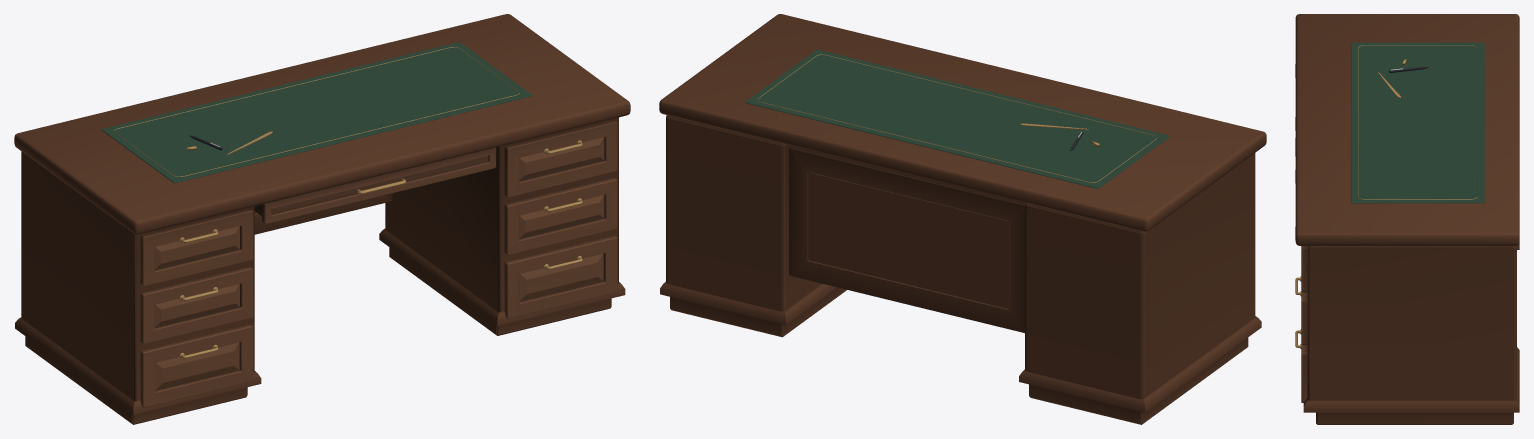
File: deskExecutive.glb
The picture shows the model from 3 angles, left to right: view 1: azimuth 30°, elevation 25°; view 2: azimuth 150°, elevation 25°; view 3: azimuth 270°, elevation 25°; orthographic projection. The views are drawn at different scales.
Visible parts, largest first — view 1: deskExecutive, drawer; view 2: deskExecutive; view 3: deskExecutive.
Boxes of the visible parts, <box> form: deskExecutive: <box>14,14,630,424</box>; drawer: <box>254,147,496,223</box>; deskExecutive: <box>659,14,1266,424</box>; deskExecutive: <box>1295,14,1519,424</box>.
Size of the model in its own units: 1.8 by 0.7548 by 0.771.
